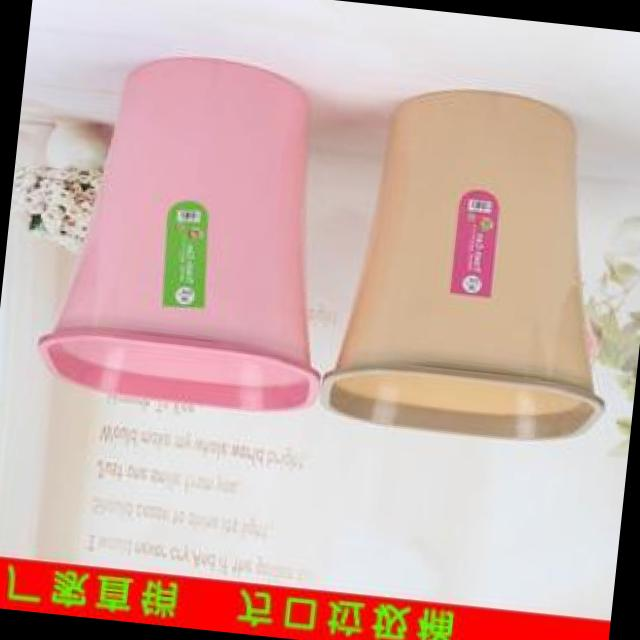dustbin: (29, 32, 355, 426)
